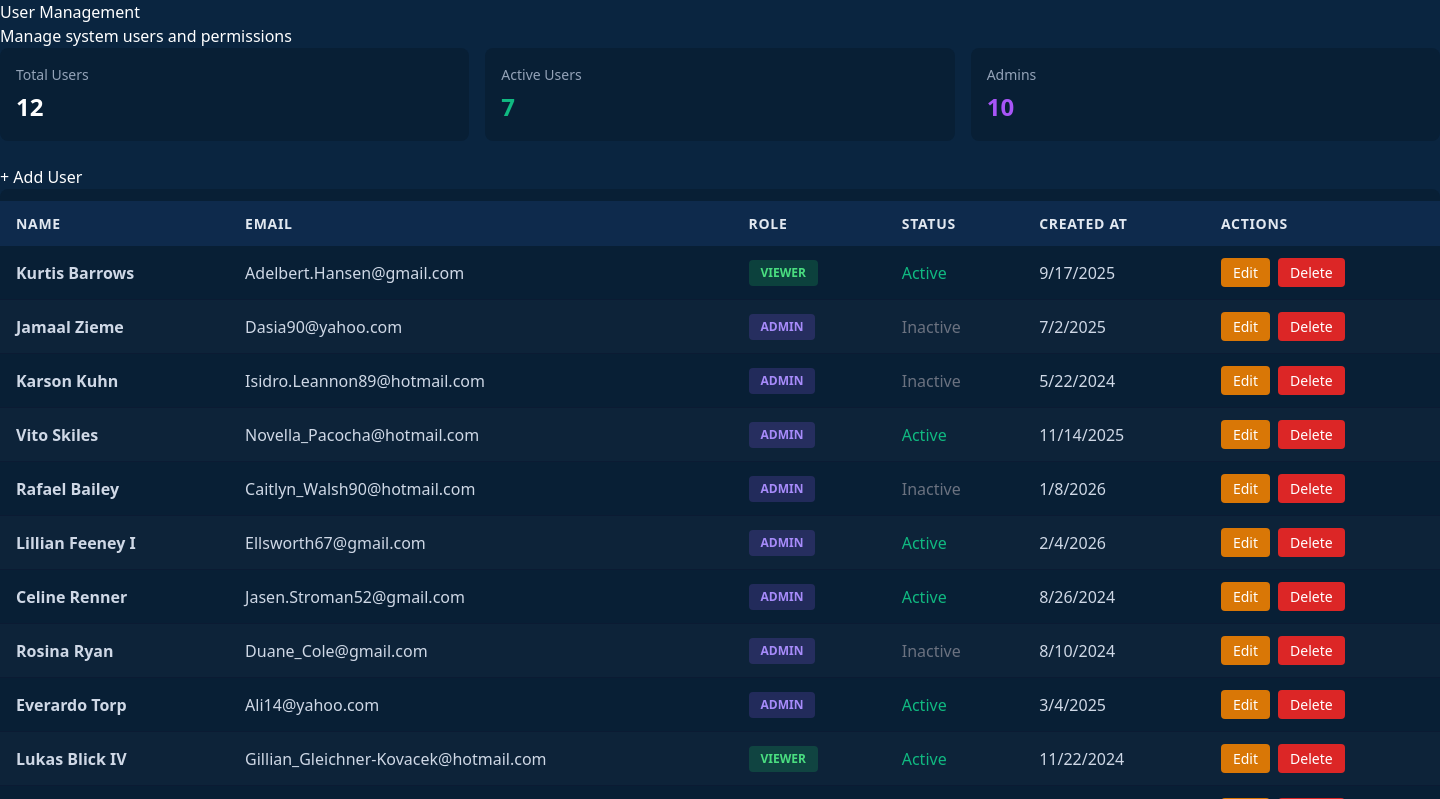
it: UserManagement › should open add user modal when clicking Add User
Click the button "+ Add User": (41, 177) [0,165,82,189]
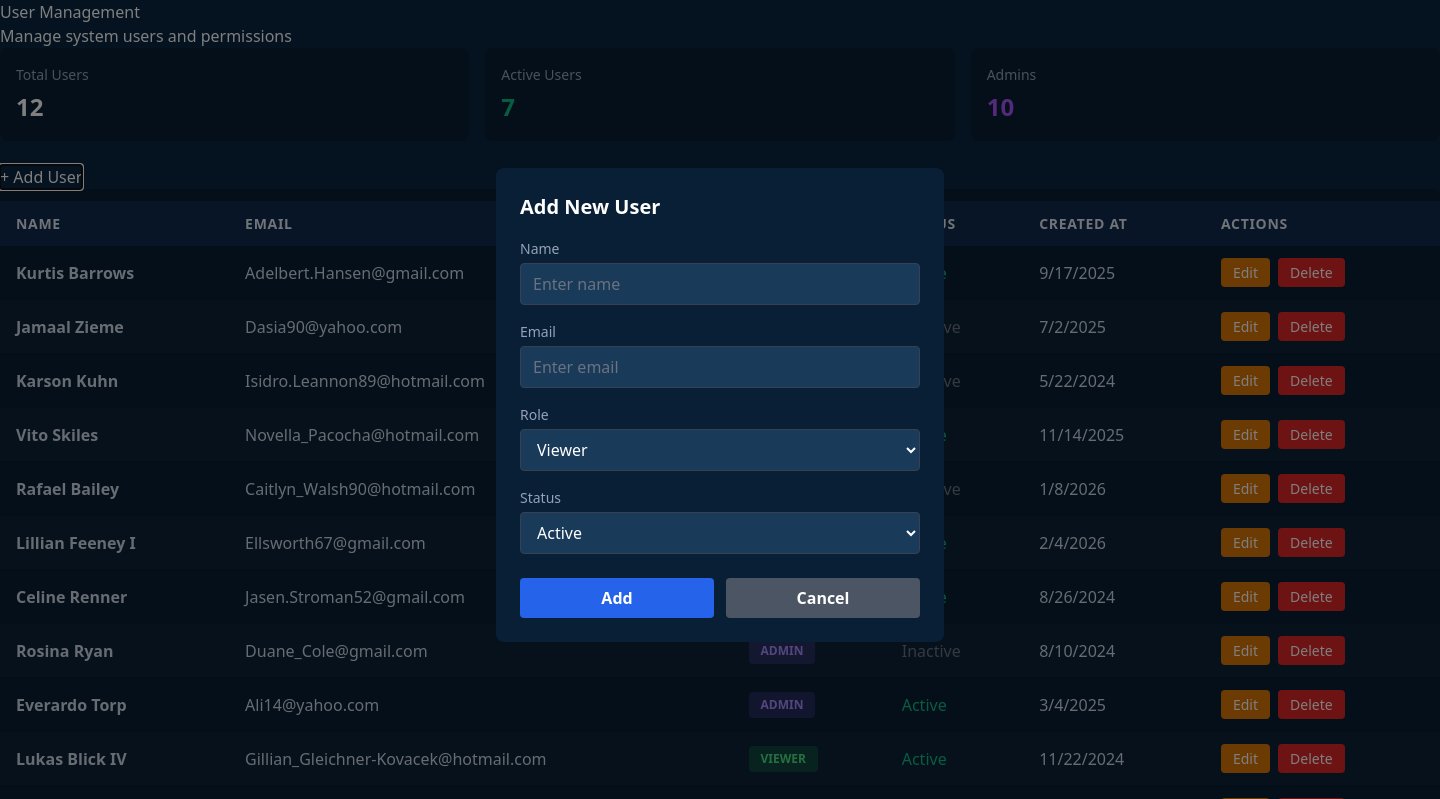
Expected: the heading "Add New User" is shown, [520,193,660,220]
